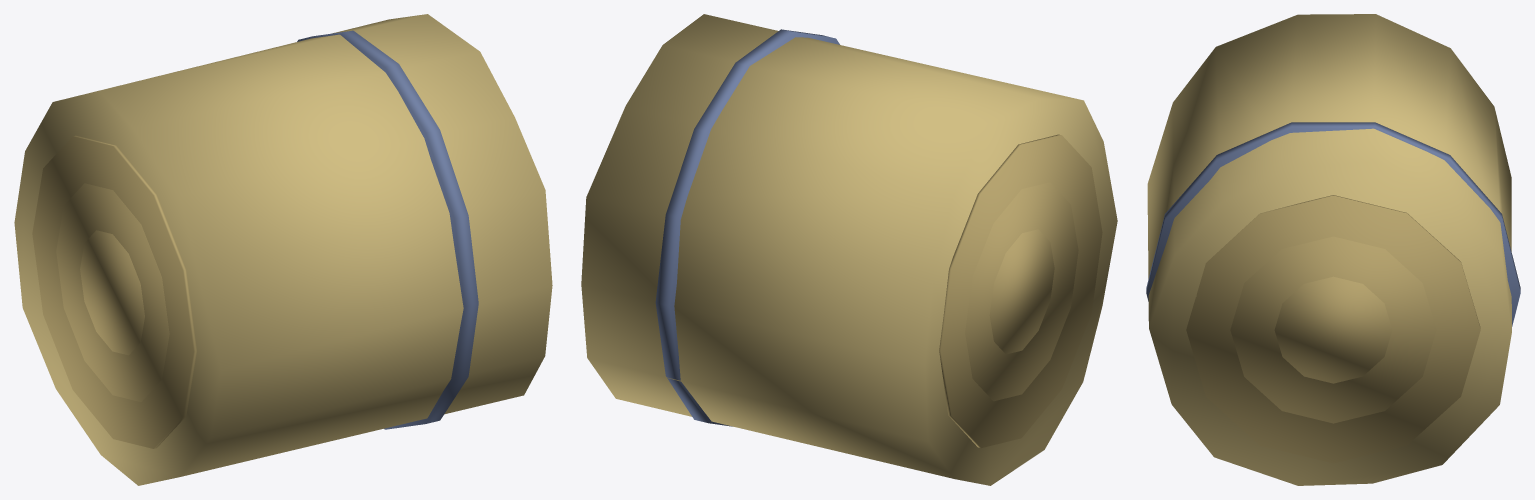
The model's file is v_hay_bale.glb.
3 views of the same model, side by side, from view 1: azimuth 30°, elevation 25°; view 2: azimuth 150°, elevation 25°; view 3: azimuth 270°, elevation 25° (orthographic). The views are drawn at different scales.
Parts seen in each view (by area): view 1: HayBale; view 2: HayBale; view 3: HayBale.
Part boxes in pixels (bbox=[...]): HayBale: bbox=[14, 14, 552, 485]; HayBale: bbox=[581, 14, 1117, 485]; HayBale: bbox=[1146, 14, 1520, 485].
Size of what is drawn, in the model's own units: 1.24 by 1.24 by 1.27.
